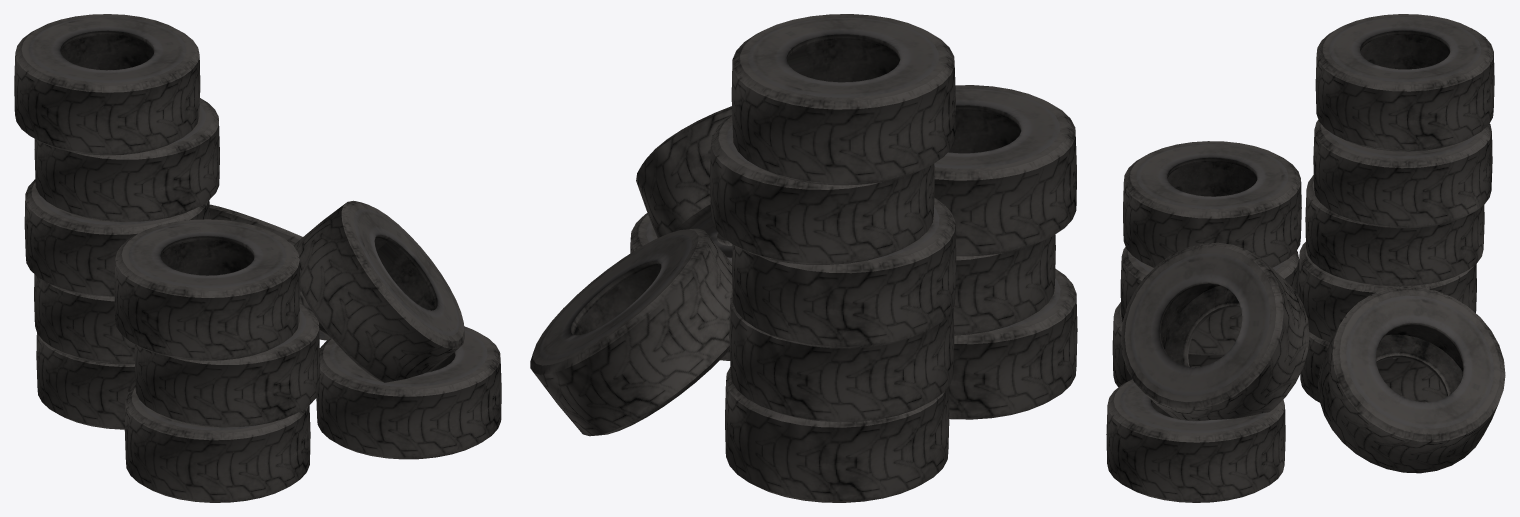
Rendered from Garbage3.fbx.
3 views of the same model, side by side, from view 1: azimuth 30°, elevation 25°; view 2: azimuth 150°, elevation 25°; view 3: azimuth 270°, elevation 25° (orthographic). The views are drawn at different scales.
Visible parts, largest first — view 1: opon.005, opon.007, opon.003, opon, polySurface2, polySurface1; view 2: opon.007, opon.005, polySurface1, opon, polySurface2, opon.003; view 3: opon.007, opon.003, polySurface1, opon.005, polySurface2, opon.
Part boxes in pixels (<box>): opon.005: <box>114,219,320,502</box>; opon.007: <box>14,14,219,296</box>; opon.003: <box>293,200,501,459</box>; opon: <box>36,333,135,429</box>; polySurface2: <box>34,274,134,364</box>; polySurface1: <box>209,204,331,340</box>; opon.007: <box>710,14,956,348</box>; opon.005: <box>934,85,1077,419</box>; polySurface1: <box>530,228,732,436</box>; opon: <box>725,367,949,502</box>; polySurface2: <box>729,291,954,422</box>; opon.003: <box>630,106,732,360</box>; opon.007: <box>1305,14,1494,286</box>; opon.003: <box>1106,242,1309,502</box>; polySurface1: <box>1317,286,1505,473</box>; opon.005: <box>1112,141,1301,387</box>; polySurface2: <box>1299,242,1476,342</box>; opon: <box>1300,332,1446,402</box>.
Size of the model in its own units: 166 by 154 by 168.
